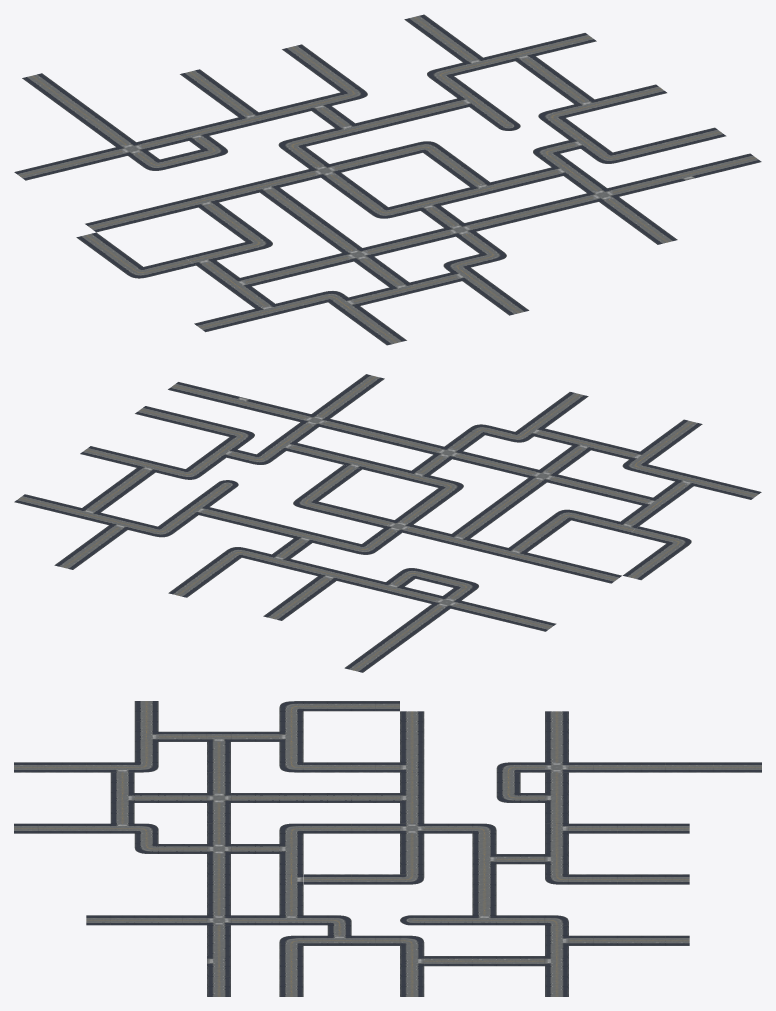
Rendered from m_idle_bg_road_a_00.fbx.
The picture shows the model from 3 angles, top to bottom: view 1: azimuth 30°, elevation 25°; view 2: azimuth 150°, elevation 25°; view 3: azimuth 270°, elevation 25°; orthographic projection. The views are drawn at different scales.
Visible parts, largest first — view 1: m_idle_bg_road_a_00; view 2: m_idle_bg_road_a_00; view 3: m_idle_bg_road_a_00.
Boxes of the visible parts, bbox=[...] form: m_idle_bg_road_a_00: bbox=[14, 14, 761, 345]; m_idle_bg_road_a_00: bbox=[14, 374, 761, 672]; m_idle_bg_road_a_00: bbox=[14, 701, 761, 996].
Size of the model in its own units: 725 by 0.00044 by 775.
